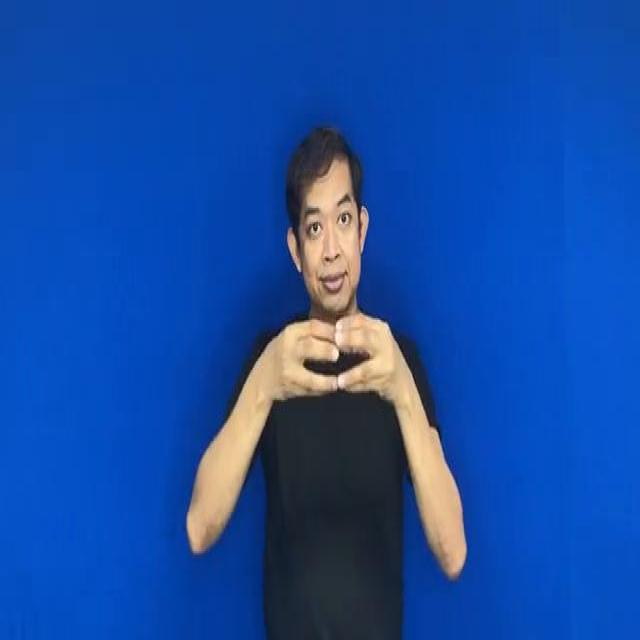egg: (247, 292, 417, 415)
